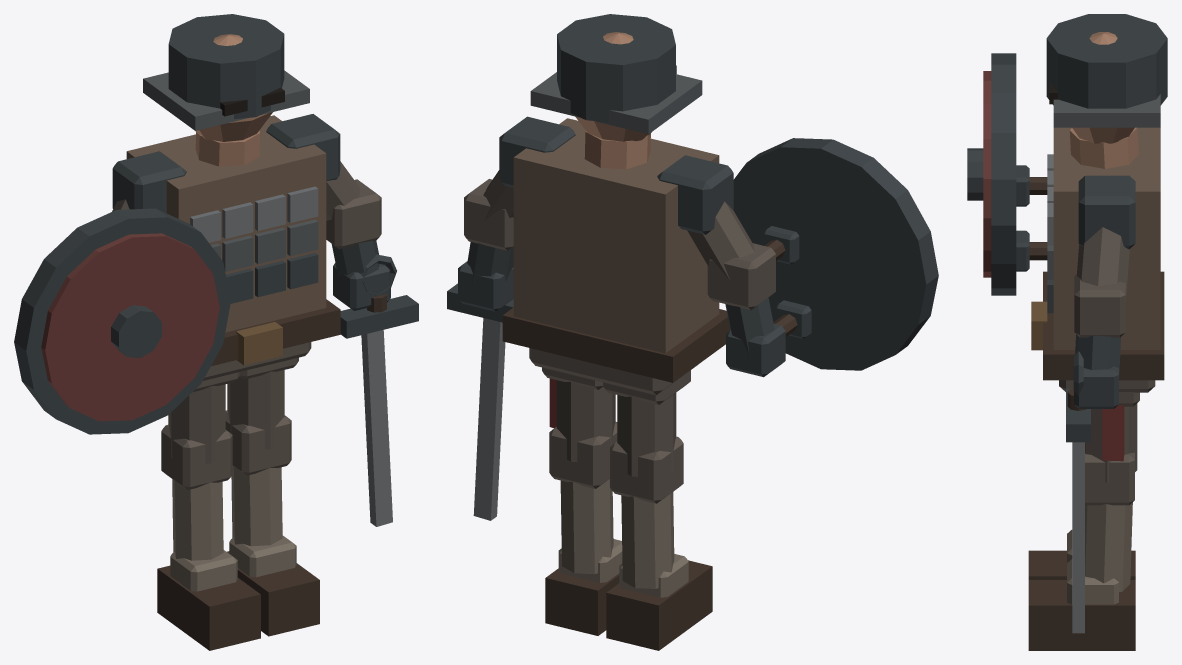
Rendered from chr_f1_sword_shield_pixel_v003.glb.
The picture shows the model from 3 angles, left to right: view 1: azimuth 30°, elevation 25°; view 2: azimuth 150°, elevation 25°; view 3: azimuth 270°, elevation 25°; orthographic projection. The views are drawn at different scales.
Visible parts, largest first — view 1: CHR_F1_SwordShield_V002_ShieldFace, CHR_F1_SwordShield_V002_Torso, CHR_F1_SwordShield_V002_ShieldRim, CHR_F1_SwordShield_V002_HelmetBowl, CHR_F1_SwordShield_V002_Boot_-1, CHR_F1_SwordShield_V002_SwordBlade, CHR_F1_SwordShield_V002_Boot_1, CHR_F1_SwordShield_V002_Shin_-1, CHR_F1_SwordShield_V002_Shin_1, CHR_F1_SwordShield_V002_Thigh_1, V002_CONNECT_Shoulder_L, V002_CONNECT_Knee_L (+28 smaller); view 2: CHR_F1_SwordShield_V002_Torso, CHR_F1_SwordShield_V002_ShieldRim, CHR_F1_SwordShield_V002_HelmetBowl, CHR_F1_SwordShield_V002_Belt, CHR_F1_SwordShield_V002_Boot_-1, CHR_F1_SwordShield_V002_SwordBlade, CHR_F1_SwordShield_V002_Shin_-1, CHR_F1_SwordShield_V002_Shin_1, V002_CONNECT_Shoulder_L, CHR_F1_SwordShield_V002_Thigh_-1, CHR_F1_SwordShield_V002_Boot_1, CHR_F1_SwordShield_V002_HelmetBrim (+21 smaller); view 3: CHR_F1_SwordShield_V002_Torso, CHR_F1_SwordShield_V002_HelmetBowl, CHR_F1_SwordShield_V002_ShieldRim, CHR_F1_SwordShield_V002_Boot_1, CHR_F1_SwordShield_V002_Shin_1, V002_CONNECT_Shoulder_R, CHR_F1_SwordShield_V002_Belt, V002_CONNECT_Elbow_R, CHR_F1_SwordShield_V002_HelmetBrim, CHR_F1_SwordShield_V002_SwordBlade, CHR_F1_SwordShield_V002_UpperArm_1, V002_CONNECT_Knee_R (+18 smaller).
Part boxes in pixels (x1=…): CHR_F1_SwordShield_V002_ShieldFace: x1=41, y1=233, x2=219, y2=421; CHR_F1_SwordShield_V002_Torso: x1=126, y1=115, x2=326, y2=332; CHR_F1_SwordShield_V002_ShieldRim: x1=14, y1=208, x2=230, y2=434; CHR_F1_SwordShield_V002_HelmetBowl: x1=168, y1=14, x2=284, y2=119; CHR_F1_SwordShield_V002_Boot_-1: x1=157, y1=565, x2=260, y2=650; CHR_F1_SwordShield_V002_SwordBlade: x1=361, y1=330, x2=392, y2=526; CHR_F1_SwordShield_V002_Boot_1: x1=227, y1=551, x2=319, y2=636; CHR_F1_SwordShield_V002_Shin_-1: x1=172, y1=479, x2=223, y2=560; CHR_F1_SwordShield_V002_Shin_1: x1=231, y1=466, x2=282, y2=546; CHR_F1_SwordShield_V002_Thigh_1: x1=227, y1=370, x2=284, y2=449; V002_CONNECT_Shoulder_L: x1=112, y1=151, x2=186, y2=213; V002_CONNECT_Knee_L: x1=161, y1=425, x2=232, y2=489; CHR_F1_SwordShield_V002_Torso: x1=513, y1=118, x2=719, y2=353; CHR_F1_SwordShield_V002_ShieldRim: x1=733, y1=138, x2=938, y2=370; CHR_F1_SwordShield_V002_HelmetBowl: x1=557, y1=14, x2=675, y2=122; CHR_F1_SwordShield_V002_Belt: x1=502, y1=307, x2=730, y2=382; CHR_F1_SwordShield_V002_Boot_-1: x1=606, y1=560, x2=712, y2=650; CHR_F1_SwordShield_V002_SwordBlade: x1=473, y1=318, x2=505, y2=520; CHR_F1_SwordShield_V002_Shin_-1: x1=621, y1=492, x2=674, y2=588; CHR_F1_SwordShield_V002_Shin_1: x1=560, y1=479, x2=613, y2=574; V002_CONNECT_Shoulder_L: x1=657, y1=155, x2=733, y2=234; CHR_F1_SwordShield_V002_Thigh_-1: x1=617, y1=393, x2=676, y2=476; CHR_F1_SwordShield_V002_Boot_1: x1=545, y1=568, x2=619, y2=635; CHR_F1_SwordShield_V002_HelmetBrim: x1=530, y1=72, x2=702, y2=134; CHR_F1_SwordShield_V002_Torso: x1=1053, y1=127, x2=1160, y2=349; CHR_F1_SwordShield_V002_HelmetBowl: x1=1046, y1=14, x2=1167, y2=108; CHR_F1_SwordShield_V002_ShieldRim: x1=991, y1=53, x2=1016, y2=295; CHR_F1_SwordShield_V002_Boot_1: x1=1028, y1=580, x2=1135, y2=650; CHR_F1_SwordShield_V002_Shin_1: x1=1085, y1=502, x2=1132, y2=592; V002_CONNECT_Shoulder_R: x1=1078, y1=175, x2=1135, y2=249; CHR_F1_SwordShield_V002_Belt: x1=1043, y1=271, x2=1164, y2=380; V002_CONNECT_Elbow_R: x1=1074, y1=274, x2=1125, y2=337; CHR_F1_SwordShield_V002_HelmetBrim: x1=1053, y1=94, x2=1160, y2=127; CHR_F1_SwordShield_V002_SwordBlade: x1=1072, y1=442, x2=1084, y2=633; CHR_F1_SwordShield_V002_UpperArm_1: x1=1076, y1=227, x2=1129, y2=300; V002_CONNECT_Knee_R: x1=1085, y1=452, x2=1134, y2=505.
Size of the model in its own units: 1.42 by 1.82 by 0.5625.
